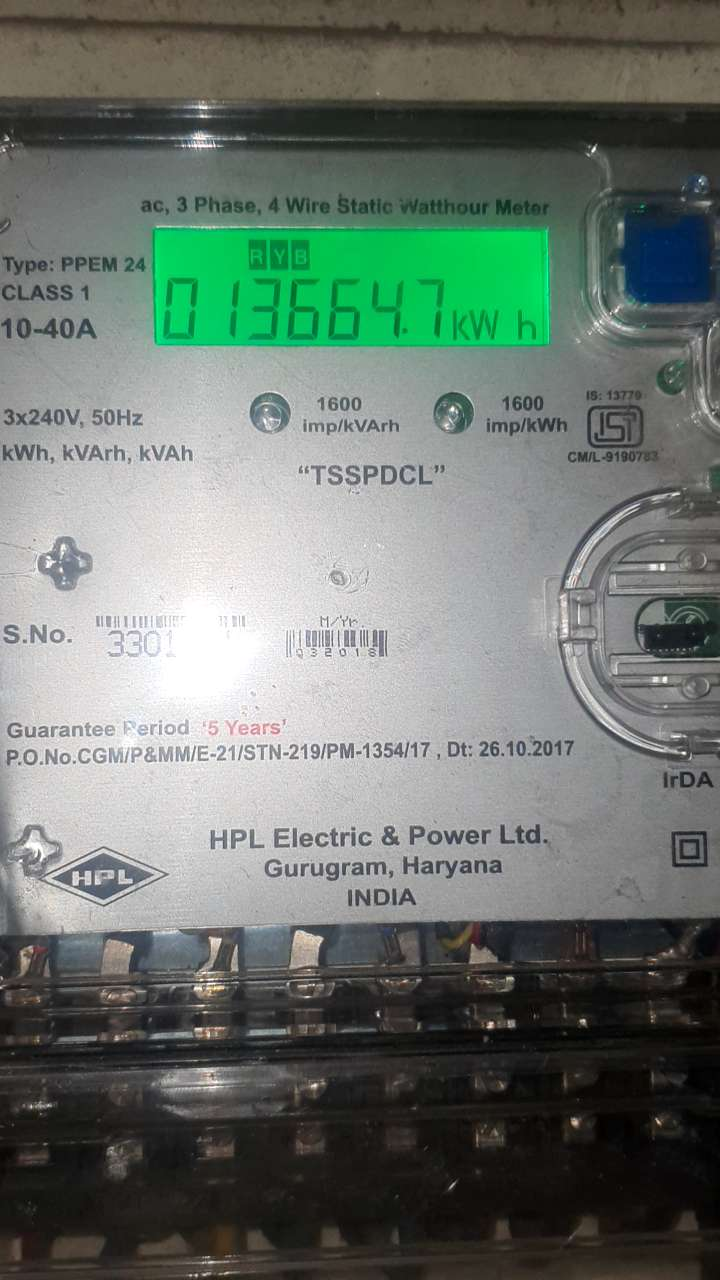meter_serial_number: (97, 625, 247, 660)
